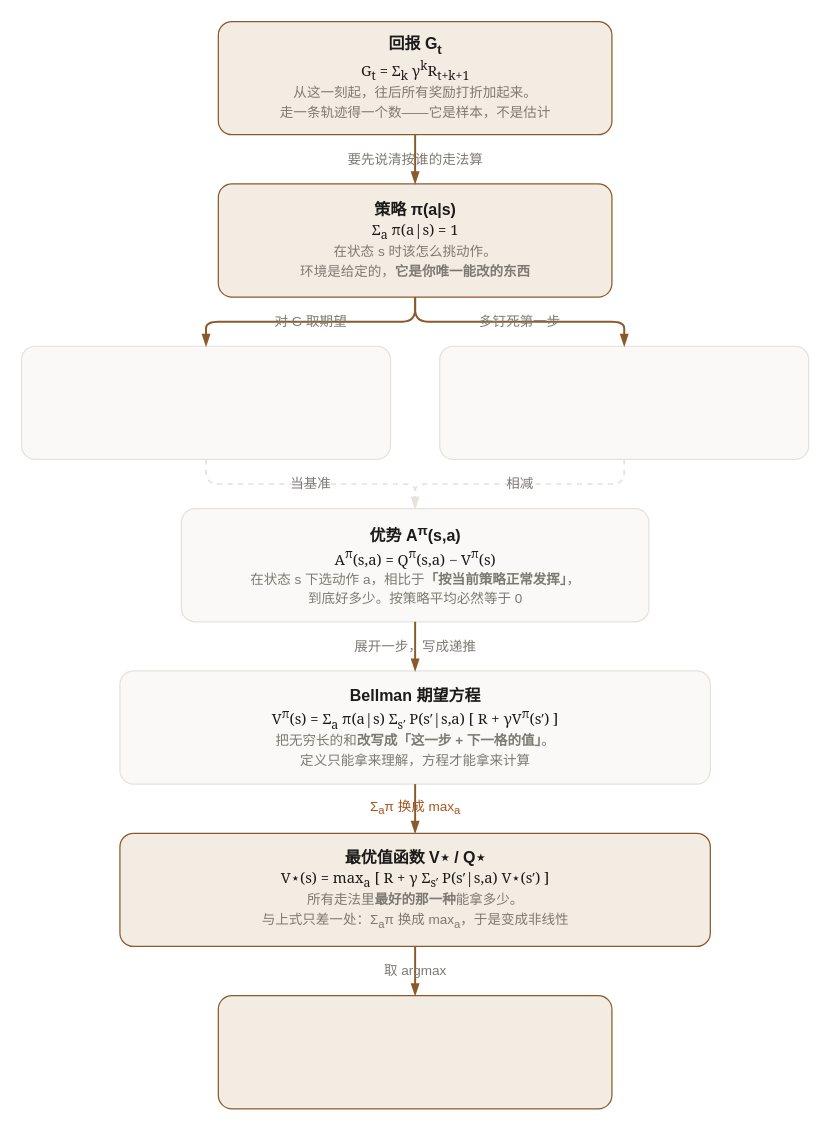
The diagram is 830 pixels wide and 1130 high, and some of its shapes have lost their labels. The shapes that lost their labels are listed below. From the top down, each one's centre as x and y in pixels, then its label:
At (x=205, y=402): "状态价值 V π (s) E π [ G t | S t =s ] 站在 s，此后 一直照 π 走 ， 平均能拿多少".
At (x=623, y=402): "动作价值 Q π (s,a) E π [ G t | S t =s, A t =a ] 站在 s， 这一步先走 a ， 之后才照 π 走，平均能拿多少".
At (x=414, y=1051): "最优策略 π⋆ π⋆(s) = argmax a Q⋆(s,a) 有了 Q⋆，选动作只剩 「这一行里挑最大」 。 max 取的是值，argmax 取的是动作".
